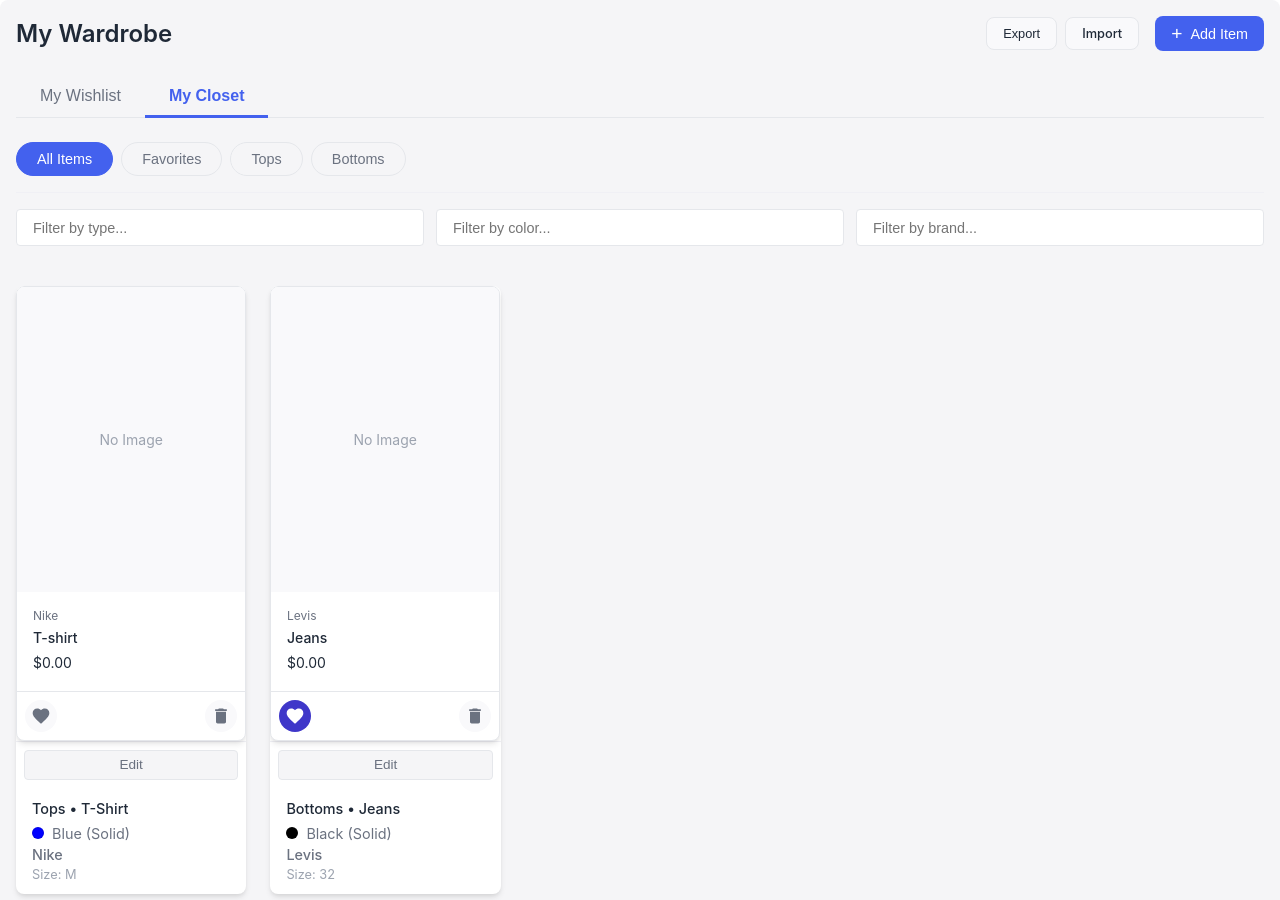
Test: MyCloset (Fashion-ai-specs.md compliance) › Smooth transitions between sections
Click the button "My Wishlist": [80, 96] box [16,75,145,117]
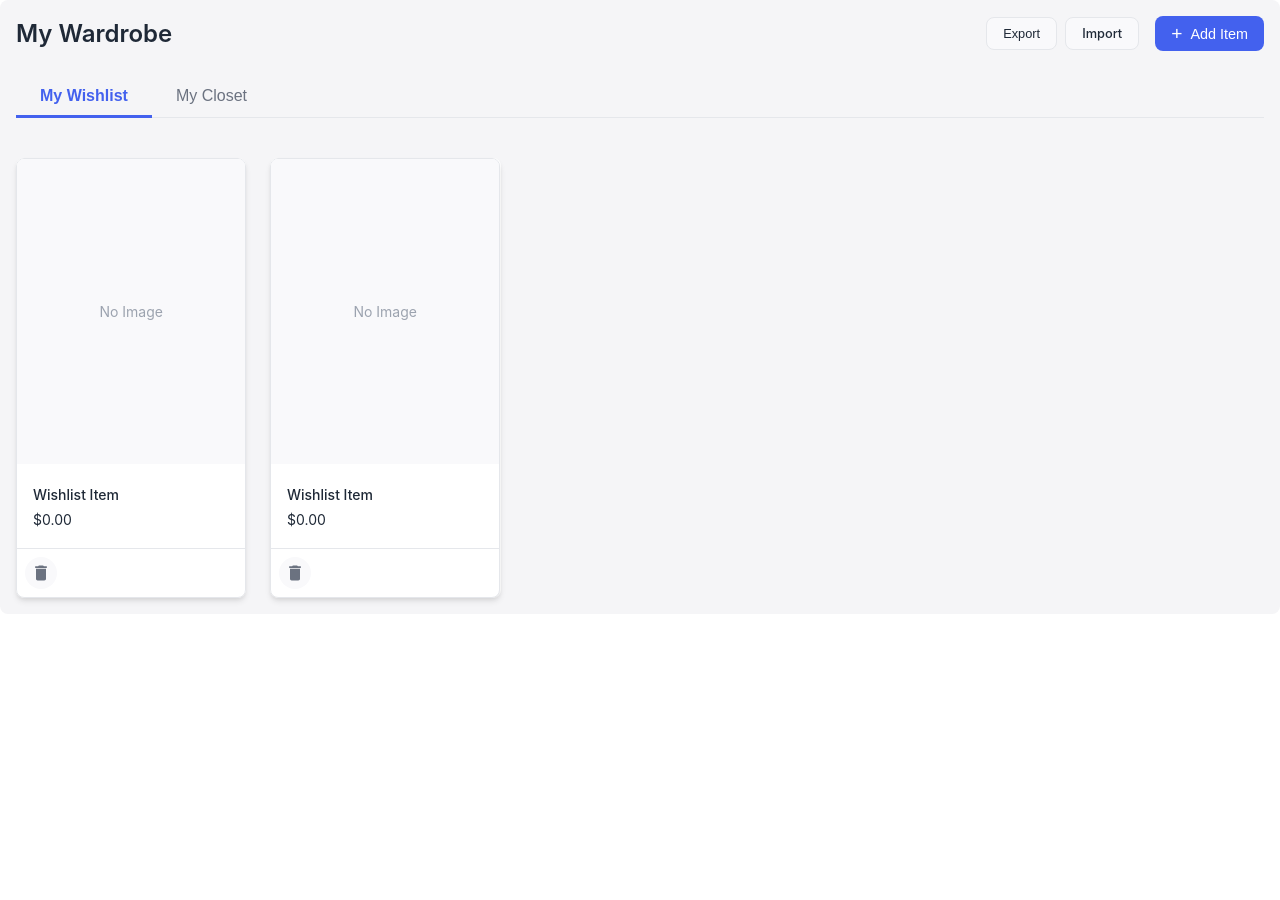
Check: the 1st text "Wishlist Item" is shown, box [33,486,119,503]
Click the button "My Closet": [211, 96] box [152,75,271,117]
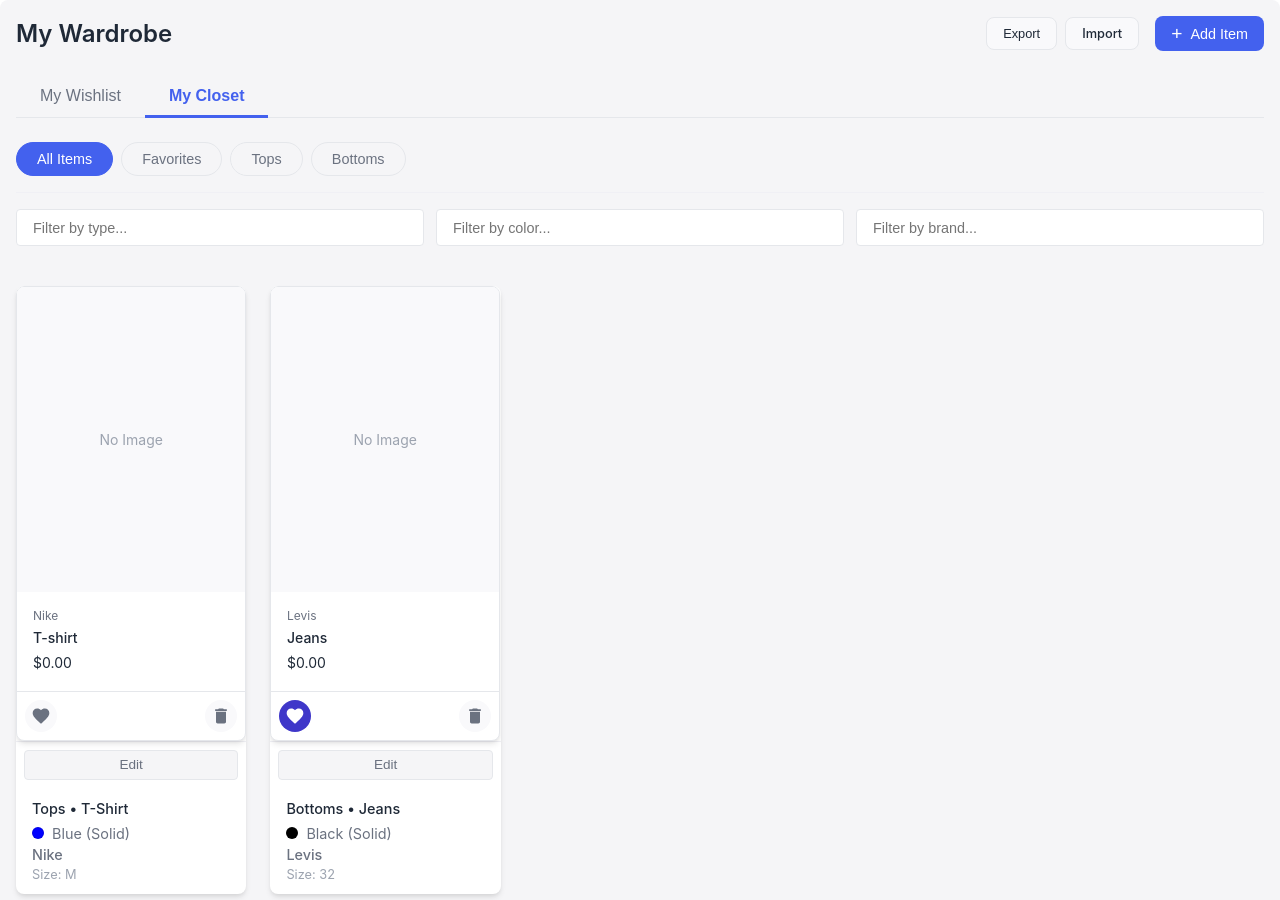
Check: the text "T-shirt" is shown, box [33,629,78,646]
